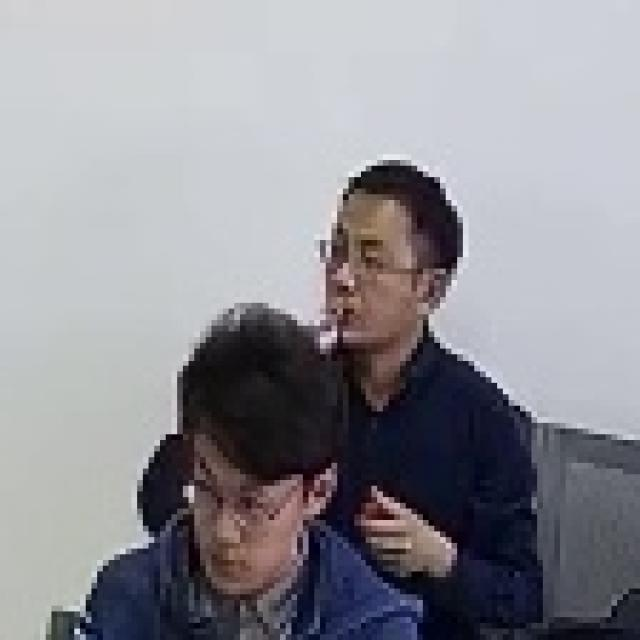drink: (286, 159, 548, 634)
trance: (175, 306, 362, 640)
